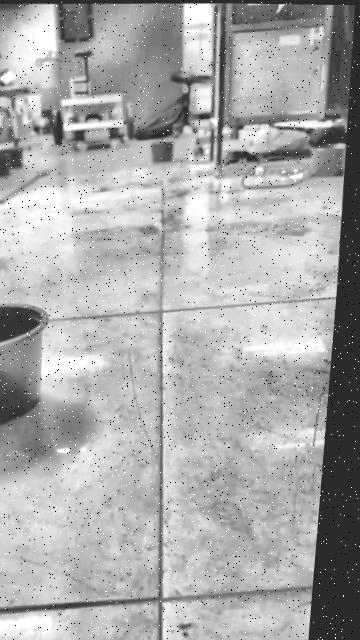pot: (0, 302, 51, 429)
